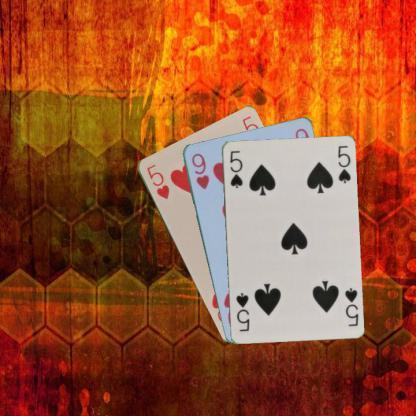5h: (144, 161, 170, 201)
5s: (341, 285, 360, 327), (227, 148, 244, 190)
9h: (188, 150, 210, 191)
